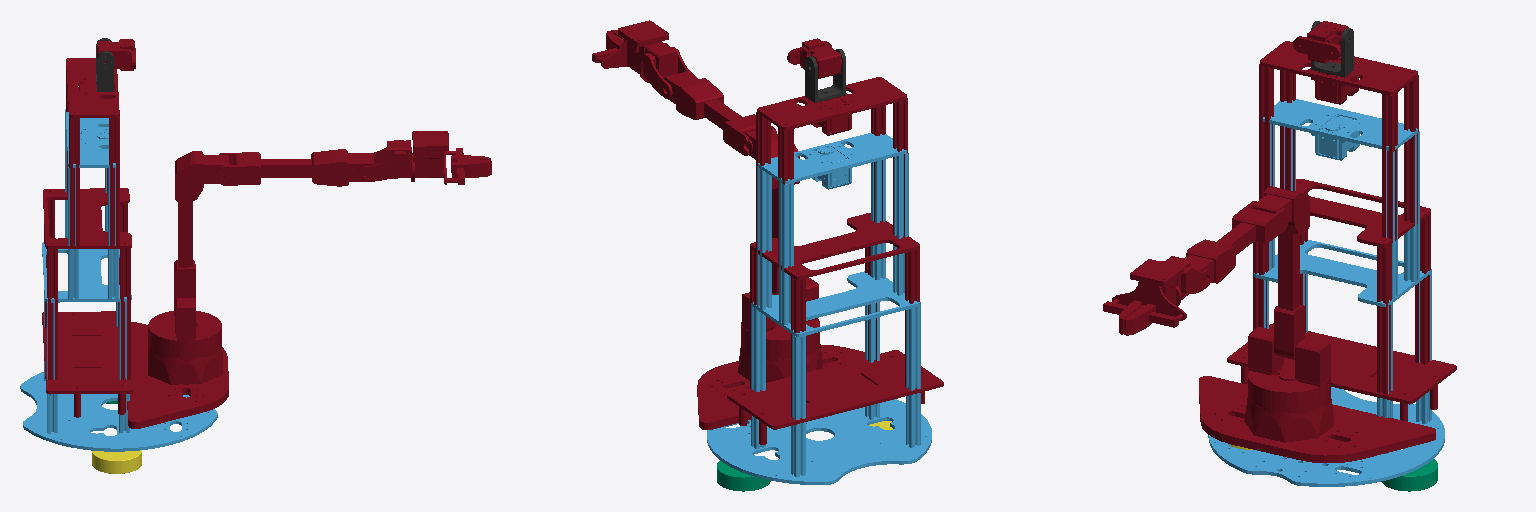
--- Facts derived from the render (not from the file) ---
3 views of the same robot in one strip: view 1: azimuth 30°, elevation 25°; view 2: azimuth 150°, elevation 25°; view 3: azimuth 270°, elevation 25° (orthographic).
Robot: locobot — 25 links, 24 joints (24 fixed); root link base_footprint; default pose: all joints at 0.
Visible links, largest first — view 1: cam_mount, base_link, plate_2, forearm_link, elbow_link, arm_base_link, shoulder_link, wrist_link, gripper_link, wheel_right_link, ar_tag, head_tilt_link (+2 smaller); view 2: base_link, cam_mount, forearm_link, plate_2, arm_base_link, wrist_link, head_tilt_link, shoulder_link, head_pan_link, gripper_link, elbow_link, ar_tag (+1 smaller); view 3: cam_mount, base_link, plate_2, elbow_link, shoulder_link, arm_base_link, forearm_link, gripper_link, head_tilt_link, ar_tag, plate_1, wheel_left_link (+3 smaller).
Boxes of the visible links, x1,y1,x2,y2 form: cam_mount: (42,58,132,417); base_link: (20,109,217,451); plate_2: (127,322,228,425); forearm_link: (219,149,373,186); elbow_link: (174,151,229,298); arm_base_link: (148,325,222,384); shoulder_link: (148,296,221,342); wrist_link: (358,140,411,181); gripper_link: (411,148,464,184); wheel_right_link: (92,450,141,473); ar_tag: (412,131,448,158); head_tilt_link: (97,39,135,70); base_link: (707,133,931,484); cam_mount: (727,77,943,444); forearm_link: (664,71,776,155); plate_2: (697,345,864,426); arm_base_link: (738,328,822,382); wrist_link: (643,42,696,98); head_tilt_link: (787,38,841,78); shoulder_link: (741,278,819,342); head_pan_link: (805,49,845,102); gripper_link: (592,39,669,82); elbow_link: (745,130,799,294); ar_tag: (618,20,668,52); cam_mount: (1227,41,1456,421); base_link: (1208,99,1444,486); plate_2: (1199,376,1435,459); elbow_link: (1253,186,1309,359); shoulder_link: (1248,327,1330,394); arm_base_link: (1244,375,1333,442); forearm_link: (1184,201,1287,283); gripper_link: (1103,279,1186,327); head_tilt_link: (1293,21,1348,63); ar_tag: (1130,259,1183,292); plate_1: (1199,400,1435,462); wheel_left_link: (1381,459,1437,491).
Size in the robot's own frame: 0.6057 by 0.4349 by 0.5892 metres.
17 mesh visuals loaded from 16 distinct referenced files (15 OBJ); not drawn: 1 (reference not matched to a file when rendering).

robot.urdf — locobot:
<?xml version="1.0" ?>
<robot name="locobot">
    <!-- Kobuki -->
    <link name="base_footprint"/>
    <!--
       Base link is set at the bottom of the base mould.
       This is done to be compatible with the way base link
       was configured for turtlebot 1. Refer to

       https://github.com/turtlebot/turtlebot/issues/40

       To put the base link at the more oft used wheel
       axis, set the z-distance from the base_footprint
       to 0.352.
      -->
    <joint name="base_joint" type="fixed">
        <origin rpy="0 0 -0.5" xyz="-9 0 -0.7"/>
        <parent link="base_footprint"/>
        <child link="base_link"/>
    </joint>
    <link name="base_link">
        <visual>
            <geometry>
                <!-- new mesh -->
                <mesh filename="meshes/base_link2.obj"/>
            </geometry>
            <origin rpy="0 0 0" xyz="0.001 0 0.05199"/>
        </visual>
        <collision name="base">
            <geometry>
                <cylinder length="0.10938" radius="0.178"/>
            </geometry>
            <origin rpy="0 0 0" xyz="0.0 0 0.05949"/>
        </collision>
        <inertial>
            <!-- COM experimentally determined -->
            <origin xyz="0.01 0 0"/>
            <mass value="2.4"/>
            <!-- 2.4/2.6 kg for small/big battery pack -->
            <!-- Kobuki's inertia tensor is approximated by a cylinder with homogeneous mass distribution
             More details: http://en.wikipedia.org/wiki/List_of_moment_of_inertia_tensors
             m = 2.4 kg; h = 0.09 m; r = 0.175 m
             ixx = 1/12 * m * (3 * r^2 + h^2)
             iyy = 1/12 * m * (3 * r^2 + h^2)
             izz = 1/2 * m * r^2
          -->
            <inertia ixx="0.019995" ixy="0.0" ixz="0.0" iyy="0.019995" iyz="0.0" izz="0.03675"/>
        </inertial>
    </link>
    <joint name="wheel_left_joint" type="fixed">
        <parent link="base_link"/>
        <child link="wheel_left_link"/>
        <origin rpy="-1.57079632679 0 0" xyz="0.00 0.115 0.0250"/>
    </joint>
    <link name="wheel_left_link">
        <visual>
            <geometry>
                <mesh filename="meshes/wheel.obj"/>
            </geometry>
            <origin rpy="0 0 0" xyz="0 0 0"/>
        </visual>
        <collision>
            <geometry>
                <cylinder length="0.0206" radius="0.0352"/>
            </geometry>
            <origin rpy="0 0 0" xyz="0 0 0"/>
        </collision>
        <inertial>
            <mass value="0.01"/>
            <origin xyz="0 0 0"/>
            <inertia ixx="0.001" ixy="0.0" ixz="0.0" iyy="0.001" iyz="0.0" izz="0.001"/>
        </inertial>
    </link>
    <joint name="wheel_right_joint" type="fixed">
        <parent link="base_link"/>
        <child link="wheel_right_link"/>
        <origin rpy="-1.57079632679 0 0" xyz="0.00 -0.115 0.0250"/>
    </joint>
    <link name="wheel_right_link">
        <visual>
            <geometry>
                <mesh filename="meshes/wheel.obj"/>
            </geometry>
            <origin rpy="0 0 0" xyz="0 0 0"/>
        </visual>
        <collision>
            <geometry>
                <cylinder length="0.0206" radius="0.0350"/>
            </geometry>
            <origin rpy="0 0 0" xyz="0 0 0"/>
        </collision>
        <inertial>
            <mass value="0.01"/>
            <origin xyz="0 0 0"/>
            <inertia ixx="0.001" ixy="0.0" ixz="0.0" iyy="0.001" iyz="0.0" izz="0.001"/>
        </inertial>
    </link>
    <joint name="caster_front_joint" type="fixed">
        <parent link="base_link"/>
        <child link="caster_front_link"/>
        <origin rpy="-1.57079632679 0 0" xyz="0.115 0.0 0.007"/>
    </joint>
    <link name="caster_front_link">
        <collision>
            <geometry>
                <cylinder length="0.0176" radius="0.017"/>
            </geometry>
            <origin rpy="0 0 0" xyz="0 0 0"/>
        </collision>
        <inertial>
            <mass value="0.01"/>
            <origin xyz="0 0 0"/>
            <inertia ixx="0.001" ixy="0.0" ixz="0.0" iyy="0.001" iyz="0.0" izz="0.001"/>
        </inertial>
    </link>
    <joint name="caster_back_joint" type="fixed">
        <parent link="base_link"/>
        <child link="caster_back_link"/>
        <origin rpy="-1.57079632679 0 0" xyz="-0.135 0.0 0.009"/>
    </joint>
    <link name="caster_back_link">
        <collision>
            <geometry>
                <cylinder length="0.0176" radius="0.017"/>
            </geometry>
            <origin rpy="0 0 0" xyz="0 0 0"/>
        </collision>
        <inertial>
            <mass value="0.01"/>
            <origin xyz="0 0 0"/>
            <inertia ixx="0.001" ixy="0.0" ixz="0.0" iyy="0.001" iyz="0.0" izz="0.001"/>
        </inertial>
    </link>
    <!-- Kobuki's sensors -->
    <joint name="gyro_joint" type="fixed">
        <axis xyz="0 1 0"/>
        <origin rpy="0 0 0" xyz="0.056 0.062 0.0202"/>
        <parent link="base_link"/>
        <child link="gyro_link"/>
    </joint>
    <link name="gyro_link">
        <inertial>
            <mass value="0.001"/>
            <origin rpy="0 0 0" xyz="0 0 0"/>
            <inertia ixx="0.0001" ixy="0" ixz="0" iyy="0.000001" iyz="0" izz="0.0001"/>
        </inertial>
    </link>
    <joint name="cliff_sensor_left_joint" type="fixed">
        <origin rpy="0 1.57079632679 0" xyz="0.08734 0.13601 0.0214"/>
        <parent link="base_link"/>
        <child link="cliff_sensor_left_link"/>
    </joint>
    <link name="cliff_sensor_left_link">
        <inertial>
            <mass value="0.0001"/>
            <origin xyz="0 0 0"/>
            <inertia ixx="0.0001" ixy="0.0" ixz="0.0" iyy="0.0001" iyz="0.0" izz="0.0001"/>
        </inertial>
    </link>
    <joint name="cliff_sensor_right_joint" type="fixed">
        <origin rpy="0 1.57079632679 0" xyz="0.085 -0.13601 0.0214"/>
        <parent link="base_link"/>
        <child link="cliff_sensor_right_link"/>
    </joint>
    <link name="cliff_sensor_right_link">
        <inertial>
            <mass value="0.0001"/>
            <origin xyz="0 0 0"/>
            <inertia ixx="0.0001" ixy="0.0" ixz="0.0" iyy="0.0001" iyz="0.0" izz="0.0001"/>
        </inertial>
    </link>
    <joint name="cliff_sensor_front_joint" type="fixed">
        <origin rpy="0 1.57079632679 0" xyz="0.156 0.00 0.0214"/>
        <parent link="base_link"/>
        <child link="cliff_sensor_front_link"/>
    </joint>
    <link name="cliff_sensor_front_link">
        <inertial>
            <mass value="0.0001"/>
            <origin xyz="0 0 0"/>
            <inertia ixx="0.0001" ixy="0.0" ixz="0.0" iyy="0.0001" iyz="0.0" izz="0.0001"/>
        </inertial>
    </link>
    <!-- plates  -->
    <link name="plate_1">
        <inertial>
            <origin rpy="0 0 0" xyz="0 0 0"/>
            <mass value="0.640128902693298"/>
            <inertia ixx="0.0212697824374231" ixy="-1.84819421839641E-07" ixz="0.00177278831625861" iyy="0.0200161122874848" iyz="1.82514218153984E-07" izz="0.00538401325307411"/>
        </inertial>
        <visual>
            <origin rpy="0 0 0" xyz="0 0 0"/>
            <geometry>
                <mesh filename="meshes/plate.obj"/>
            </geometry>
            <material name="">
                <color rgba="0.56 0.095 0.165 1.0" />
            </material>
        </visual>
        <collision>
            <origin rpy="0 0 0" xyz="0 0 0"/>
            <geometry>
                <mesh filename="meshes/plate.obj"/>
            </geometry>
        </collision>
    </link>
    <joint name="plate_1_joint" type="fixed">
        <origin rpy="0 0 0" xyz="0.0973 0 0.0902375"/>
        <parent link="base_link"/>
        <child link="plate_1"/>
        <axis xyz="0 0 0"/>
    </joint>
    <link name="plate_2">
        <inertial>
            <origin rpy="0 0 0" xyz="0 0 0"/>
            <mass value="0.640128902693298"/>
            <inertia ixx="0.0212697824374231" ixy="-1.84819421839641E-07" ixz="0.00177278831625861" iyy="0.0200161122874848" iyz="1.82514218153984E-07" izz="0.00538401325307411"/>
        </inertial>
        <visual>
            <origin rpy="0 0 0" xyz="0 0 0"/>
            <geometry>
                <mesh filename="meshes/plate.obj"/>
            </geometry>
            <material name="">
                <color rgba="0.56 0.095 0.165 1.0" />
            </material>
        </visual>
        <collision>
            <origin rpy="0 0 0" xyz="0 0 0"/>
            <geometry>
                <mesh filename="meshes/plate.obj"/>
            </geometry>
        </collision>
    </link>
    <joint name="plate_2_joint" type="fixed">
        <origin rpy="0 0 0" xyz="0 0 0.0047625"/>
        <parent link="plate_1"/>
        <child link="plate_2"/>
        <axis xyz="0 0 0"/>
    </joint>
    <!-- add arm -->
    <link name="arm_base_link">
        <inertial>
            <origin rpy="0 0 0" xyz="-1.86027246940057E-08 -1.84987775462994E-08 0.0400356424684456"/>
            <mass value="0.531491686912019"/>
            <inertia ixx="0.000533657400855491" ixy="-4.44205269454465E-09" ixz="2.11078566024265E-10" iyy="0.000533665698902565" iyz="5.02029005902419E-11" izz="0.00071572082392375"/>
        </inertial>
        <visual>
            <origin rpy="0 0 0" xyz="0 0 0"/>
            <geometry>
                <mesh filename="meshes/arm_base_link.obj"/>
            </geometry>
            <material name="">
                <color rgba="0.56 0.095 0.165 1.0" />
            </material>
        </visual>
        <collision>
            <origin rpy="0 0 0" xyz="0 0 0"/>
            <geometry>
                <mesh filename="meshes/arm_base_link.obj"/>
            </geometry>
        </collision>
    </link>
    <joint name="arm_base_link_joint" type="fixed">
        <origin rpy="0 0 0" xyz="0 0 0.001"/>
        <parent link="plate_2"/>
        <child link="arm_base_link"/>
        <axis xyz="0 0 0"/>
    </joint>
    <link name="shoulder_link">
        <inertial>
            <origin rpy="0 0 0" xyz="-5.67968980068612E-05 1.09785478984274E-10 0.0228467386735302"/>
            <mass value="0.119861197293521"/>
            <inertia ixx="0.000161288180462291" ixy="7.59806211309873E-14" ixz="-1.45323090659527E-07" iyy="5.49696562437107E-05" iyz="1.81052501311883E-13" izz="0.000150800672543169"/>
        </inertial>
        <visual>
            <origin rpy="0 0 0" xyz="0 0 0"/>
            <geometry>
                <mesh filename="meshes/shoulder_link.obj"/>
            </geometry>
            <material name="">
                <color rgba="0.56 0.095 0.165 1.0" />
            </material>
        </visual>
        <collision>
            <origin rpy="0 0 0" xyz="0 0 0"/>
            <geometry>
                <mesh filename="meshes/shoulder_link.obj"/>
            </geometry>
        </collision>
    </link>
    <joint name="joint_1" type="fixed">
        <origin rpy="0 0 0" xyz="0 0 0.072"/>
        <parent link="arm_base_link"/>
        <child link="shoulder_link"/>

    </joint>
    <link name="elbow_link">
        <inertial>
            <origin rpy="0 0 0" xyz="0.00959755948481227 -2.30930057287648E-10 0.134296795349987"/>
            <mass value="0.212482745791037"/>
            <inertia ixx="0.0011748973771367" ixy="-4.7094567420817E-13" ixz="-0.000132188939134774" iyy="0.00122350302249847" iyz="-5.48932537472287E-12" izz="9.02202689343621E-05"/>
        </inertial>
        <visual>
            <origin rpy="0 0 0" xyz="0 0 0"/>
            <geometry>
                <mesh filename="meshes/elbow_link.obj"/>
            </geometry>
            <material name="">
                <color rgba="0.56 0.095 0.165 1.0" />
            </material>
        </visual>
        <collision>
            <origin rpy="0 0 0" xyz="0 0 0"/>
            <geometry>
                <mesh filename="meshes/elbow_link.obj"/>
            </geometry>
        </collision>
    </link>
    <joint name="joint_2" type="fixed">
        <origin rpy="0 0 0" xyz="0 0 0.04125"/>
        <parent link="shoulder_link"/>
        <child link="elbow_link"/>

    </joint>
    <link name="forearm_link">
        <inertial>
            <origin rpy="0 0 0" xyz="0.117829826272582 3.09310973110905E-15 -1.26218883678142E-08"/>
            <mass value="0.18746427435805"/>
            <inertia ixx="3.94142667601686E-05" ixy="-3.65830967659785E-19" ixz="9.25852572167442E-11" iyy="0.000725209569605637" iyz="-1.05290858715495E-18" izz="0.000737165881391993"/>
        </inertial>
        <visual>
            <origin rpy="0 0 0" xyz="0 0 0"/>
            <geometry>
                <mesh filename="meshes/forearm_link.obj"/>
            </geometry>
            <material name="">
                <color rgba="0.56 0.095 0.165 1.0" />
            </material>
        </visual>
        <collision>
            <origin rpy="0 0 0" xyz="0 0 0"/>
            <geometry>
                <mesh filename="meshes/forearm_link.obj"/>
            </geometry>
        </collision>
    </link>
    <joint name="joint_3" type="fixed">
        <origin rpy="0 0 0" xyz="0.05 0 0.2"/>
        <parent link="elbow_link"/>
        <child link="forearm_link"/>

    </joint>
    <link name="wrist_link">
        <inertial>
            <origin rpy="0 0 0" xyz="0.0429410028407894 4.98644733821042E-05 0.0114266948023652"/>
            <mass value="0.0605921736680362"/>
            <inertia ixx="1.84998512056284E-05" ixy="-1.03256667343112E-08" ixz="-1.71865409274096E-06" iyy="2.08955068262134E-05" iyz="5.05203399787143E-09" izz="1.97857037442992E-05"/>
        </inertial>
        <visual>
            <origin rpy="0 0 0" xyz="0 0 0"/>
            <geometry>
                <mesh filename="meshes/wrist_link.obj"/>
            </geometry>
            <material name="">
                <color rgba="0.56 0.095 0.165 1.0" />
            </material>
        </visual>
        <collision>
            <origin rpy="0 0 0" xyz="0 0 0"/>
            <geometry>
                <mesh filename="meshes/wrist_link.obj"/>
            </geometry>
        </collision>
    </link>
    <joint name="joint_4" type="fixed">
        <origin rpy="0 0 0" xyz="0.2002 0 0"/>
        <parent link="forearm_link"/>
        <child link="wrist_link"/>

    </joint>
    <link name="gripper_link">
        <inertial>
            <origin rpy="0 0 0" xyz="0.0311572802112565 -1.25977280754998E-05 0.0092307003092138"/>
            <mass value="0.0795745052466434"/>
            <inertia ixx="3.27413333929741E-05" ixy="3.7314060486416E-08" ixz="3.97669066588691E-06" iyy="4.47182985231326E-05" iyz="-9.49992756213297E-09" izz="5.02142570756738E-05"/>
        </inertial>
        <visual>
            <origin rpy="0 0 0" xyz="0 0 0"/>
            <geometry>
                <mesh filename="meshes/gripper_link.obj"/>
            </geometry>
            <material name="">
                <color rgba="0.56 0.095 0.165 1.0" />
            </material>
        </visual>
        <collision>
            <origin rpy="0 0 0" xyz="0 0 0"/>
            <geometry>
                <mesh filename="meshes/gripper_link.obj"/>
            </geometry>
        </collision>
    </link>
    <joint name="joint_5" type="fixed">
        <origin rpy="0 0 0" xyz="0.063 0.0001 0"/>
        <parent link="wrist_link"/>
        <child link="gripper_link"/>
    </joint>
    <link name="finger_r">
        <inertial>
            <origin rpy="0 0 0" xyz="0.0100191457715113 -0.00843835347348892 -0.00483280251641866"/>
            <mass value="0.0121931459003602"/>
            <inertia ixx="6.74016278931418E-07" ixy="-2.36459038775023E-07" ixz="3.1480125304693E-09" iyy="3.10966297287339E-06" iyz="1.19271018871704E-10" izz="2.77935600332309E-06"/>
        </inertial>
        <visual>
            <origin rpy="0 0 0" xyz="0 0 0"/>
            <geometry>
                <mesh filename="meshes/finger_r.obj"/>
            </geometry>
            <material name="">
                <color rgba="0.56 0.095 0.165 1.0" />
            </material>
        </visual>
        <collision>
            <origin rpy="0 0 0" xyz="0 0 0"/>
            <geometry>
                <mesh filename="meshes/finger_r.obj"/>
            </geometry>
        </collision>
    </link>
    <joint name="joint_6" type="fixed">
        <origin rpy="0 0 0" xyz="0.07285 0 0.0050143"/>
        <parent link="gripper_link"/>
        <child link="finger_r"/>

    </joint>
    <link name="finger_l">
        <inertial>
            <origin rpy="0 0 0" xyz="0.0100191599590265 0.00643833435729511 -0.00483280251641866"/>
            <mass value="0.0121931459003603"/>
            <inertia ixx="6.74017180959932E-07" ixy="2.3646368440071E-07" ixz="3.14801230297432E-09" iyy="3.10966207084492E-06" iyz="-1.19277023229564E-10" izz="2.77935600332313E-06"/>
        </inertial>
        <visual>
            <origin rpy="0 0 0" xyz="0 0 0"/>
            <geometry>
                <mesh filename="meshes/finger_l.obj"/>
            </geometry>
            <material name="">
                <color rgba="0.56 0.095 0.165 1.0" />
            </material>
        </visual>
        <collision>
            <origin rpy="0 0 0" xyz="0 0 0"/>
            <geometry>
                <mesh filename="meshes/finger_l.obj"/>
            </geometry>
        </collision>
    </link>
    <joint name="joint_7" type="fixed">
        <origin rpy="0 0 0" xyz="0.07285 0 0.0050143"/>
        <parent link="gripper_link"/>
        <child link="finger_l"/>

    </joint>
    <link name="ar_tag">
        <inertial>
            <origin rpy="0 0 0" xyz="-1.59182528269852E-09 1.70641183422241E-09 -0.00509579048106218"/>
            <mass value="0.0202622634619862"/>
            <inertia ixx="4.71058333074219E-06" ixy="3.03778067070489E-12" ixz="6.65421687578365E-13" iyy="4.05773489073818E-06" iyz="1.37033485576347E-13" izz="7.92378853658606E-06"/>
        </inertial>
        <visual>
            <origin rpy="0 0 0" xyz="0 0 0"/>
            <geometry>
                <mesh filename="meshes/ar_tag.obj"/>
            </geometry>
            <material name="">
                <color rgba="0.56 0.095 0.165 1.0" />
            </material>
        </visual>
        <collision>
            <origin rpy="0 0 0" xyz="0 0 0"/>
            <geometry>
                <mesh filename="meshes/ar_tag.obj"/>
            </geometry>
        </collision>
    </link>
    <joint name="ar_tag_joint" type="fixed">
        <origin rpy="0 0 0" xyz="0.0269499999999999 0 0.04315"/>
        <parent link="gripper_link"/>
        <child link="ar_tag"/>
        <axis xyz="0 0 0"/>
    </joint>
    <!-- need to add camera assembly -->
    <link name="cam_mount">
        <inertial>
            <origin rpy="0 0 0" xyz="0.00357169217419921 -0.000144750803528887 0.178406861295468"/>
            <mass value="0.508068698311304"/>
            <inertia ixx="0.0159487749924762" ixy="9.45818767875249E-08" ixz="-0.000266253609478166" iyy="0.0137751425461872" iyz="2.26699147122113E-06" izz="0.00331206257835318"/>
        </inertial>
        <visual>
            <origin rpy="0 0 0" xyz="0 0 0"/>
            <geometry>
                <mesh filename="meshes/cam_mount.obj"/>
            </geometry>
            <material name="">
                <color rgba="0.56 0.095 0.165 1.0" />
            </material>
        </visual>
        <collision>
            <origin rpy="0 0 0" xyz="0 0 0"/>
            <geometry>
                <mesh filename="meshes/cam_mount.obj"/>
            </geometry>
        </collision>
    </link>
    <joint name="cam_mount_joint" type="fixed">
        <origin rpy="0 0 0" xyz="-0.03751 0 0.1331"/>
        <parent link="base_link"/>
        <child link="cam_mount"/>
        <axis xyz="0 0 0"/>
    </joint>
    <link name="head_pan_link">
        <inertial>
            <origin rpy="0 0 0" xyz="-1.35308431126191E-16 -2.97071395261028E-17 0.0220876265081744"/>
            <mass value="0.0182769203076134"/>
            <inertia ixx="1.32243845065555E-05" ixy="5.07660179129181E-13" ixz="1.067515220067E-20" iyy="7.13386116649085E-06" iyz="-1.32882457845217E-20" izz="7.83291781352837E-06"/>
        </inertial>
        <visual>
            <origin rpy="0 0 0" xyz="0 0 0"/>
            <geometry>
                <mesh filename="meshes/tilt_link.obj"/>
            </geometry>
            <material name="">
                <color rgba="0.250980392156863 0.250980392156863 0.250980392156863 1"/>
            </material>
        </visual>
        <collision>
            <origin rpy="0 0 0" xyz="0 0 0"/>
            <geometry>
                <mesh filename="meshes/tilt_link.obj"/>
            </geometry>
        </collision>
    </link>
    <joint name="head_pan_joint" type="fixed">
        <origin rpy="0 0 0" xyz="0.0240154841629213 -0.000373468229198185 0.4065"/>
        <parent link="cam_mount"/>
        <child link="head_pan_link"/>
    </joint>
    <link name="head_tilt_link">
        <inertial>
            <origin rpy="0 0 0" xyz="0.0168744200088311 -0.000442984145897884 -0.00405256422002387"/>
            <mass value="0.0547677687275323"/>
            <inertia ixx="1.07071738005716E-05" ixy="-1.46854788384565E-07" ixz="5.59529059364376E-08" iyy="1.77011620295824E-05" iyz="1.27587154712834E-09" izz="2.01583693170578E-05"/>
        </inertial>
        <visual>
            <origin rpy="0 0 0" xyz="0 0 0"/>
            <geometry>
                <mesh filename="meshes/roll_link.obj"/>
            </geometry>
            <material name="">
                <color rgba="0.56 0.095 0.165 1.0" />
            </material>
        </visual>
        <collision>
            <origin rpy="0 0 0" xyz="0 0 0"/>
            <geometry>
                <mesh filename="meshes/roll_link.obj"/>
            </geometry>
        </collision>
    </link>
    <joint name="head_tilt_joint" type="fixed">
        <origin rpy="0 0 0" xyz="0 0 0.05"/>
        <parent link="head_pan_link"/>
        <child link="head_tilt_link"/>

    </joint>
    <link name="camera_link">
        <inertial>
            <origin rpy="0 0 0" xyz="-0.0132722976093535 0.00168171470080143 2.49829664994428E-06"/>
            <mass value="0.0381925651163644"/>
            <inertia ixx="2.4688255642946E-05" ixy="1.60697655569215E-07" ixz="1.2993241737711E-08" iyy="3.66669176935806E-06" iyz="1.30215657011203E-08" izz="2.48602467766615E-05"/>
        </inertial>
        <visual>
            <origin rpy="0 0 0" xyz="0 0 0"/>
            <geometry>
                <mesh filename="meshes/camera_link.obj"/>
            </geometry>
            <material name="">
                <color rgba="0.56 0.095 0.165 1.0" />
            </material>
        </visual>
        <collision>
            <origin rpy="0 0 0" xyz="0 0 0"/>
            <geometry>
                <mesh filename="meshes/camera_link.obj"/>
            </geometry>
        </collision>
    </link>
    <joint name="camera_joint" type="fixed">
        <origin rpy="0 0 0" xyz="0.06705 0 -0.00425"/>
        <parent link="head_tilt_link"/>
        <child link="camera_link"/>
        <axis xyz="0 0 0"/>
    </joint>

    <!--     <gazebo>
            <plugin name="kobuki_controller" filename="libgazebo_ros_kobuki.so">
              <publish_tf>1</publish_tf>
              <publish_joint_states>0</publish_joint_states>
              <left_wheel_joint_name>wheel_left_joint</left_wheel_joint_name>
              <right_wheel_joint_name>wheel_right_joint</right_wheel_joint_name>
              <wheel_separation>.230</wheel_separation>
              <wheel_diameter>0.070</wheel_diameter>
              <torque>1.0</torque>
              <velocity_command_timeout>0.6</velocity_command_timeout>
              <cliff_sensor_left_name>cliff_sensor_left</cliff_sensor_left_name>
              <cliff_sensor_center_name>cliff_sensor_front</cliff_sensor_center_name>
              <cliff_sensor_right_name>cliff_sensor_right</cliff_sensor_right_name>
              <cliff_detection_threshold>0.04</cliff_detection_threshold>
              <bumper_name>bumpers</bumper_name>
              <robotNamespace>/base</robotNamespace>
            <imu_name>imu</imu_name>
            </plugin>
         </gazebo> -->


</robot>
